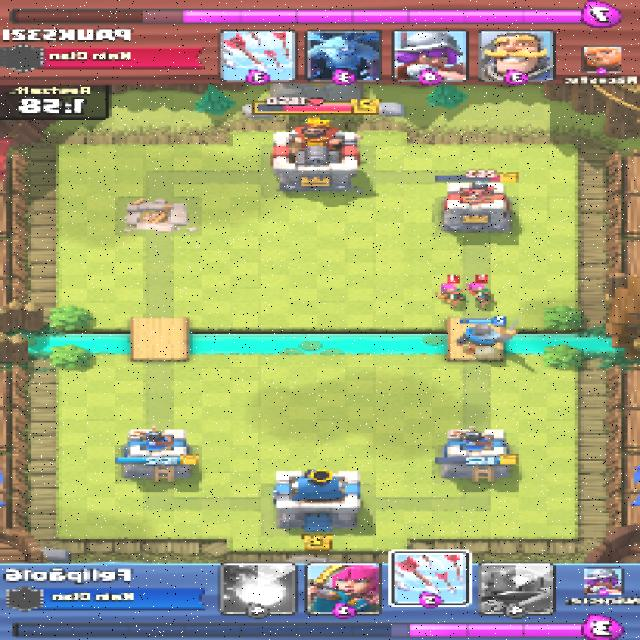Enemy-Archer: (434, 281, 467, 306), (468, 281, 496, 304)
Player-Knight: (454, 323, 516, 355)
